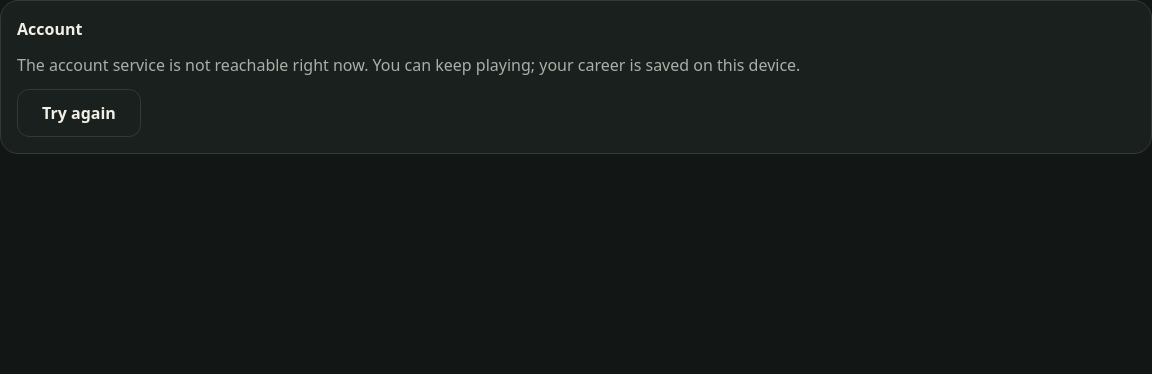
Test: Account card › stays playable when the account service is unreachable
The image size is (1152, 374).
Expected: the text "You can keep playing" is shown, [17,54,800,76]
Click the button "Try again" at (79,113), box [17,89,141,137]
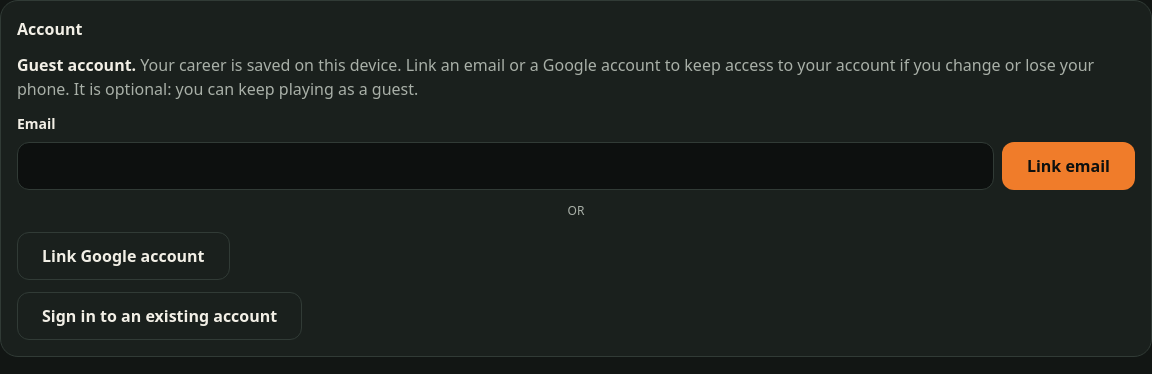
Now the text "Guest account." is shown, box [17,54,136,76]
